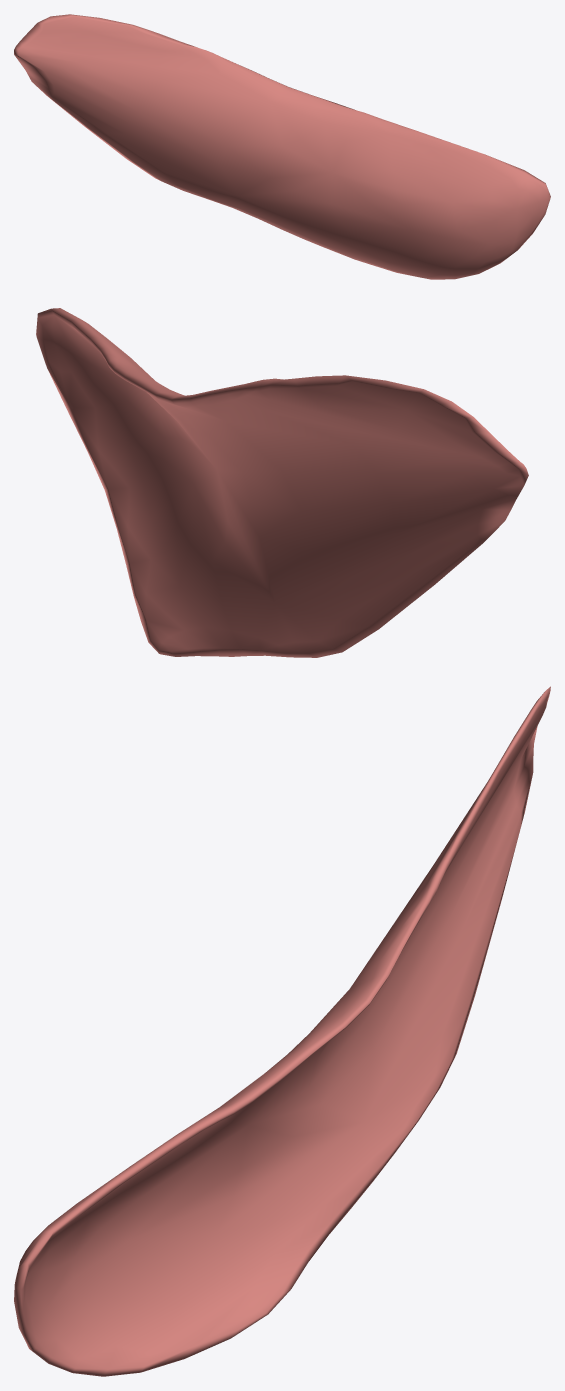
3 views of the same model, one above another, from view 1: azimuth 30°, elevation 25°; view 2: azimuth 150°, elevation 25°; view 3: azimuth 270°, elevation 25° (orthographic). The views are drawn at different scales.
Visible parts, largest first — view 1: ZA_5b21f307fb3f1975; view 2: ZA_5b21f307fb3f1975; view 3: ZA_5b21f307fb3f1975.
Boxes of the visible parts, x1,y1,x2,y2 form: ZA_5b21f307fb3f1975: [14, 14, 550, 279]; ZA_5b21f307fb3f1975: [36, 308, 528, 657]; ZA_5b21f307fb3f1975: [14, 686, 550, 1376].
Bounding box in the file's own units: 0.0387 × 0.0232 × 0.0255.
